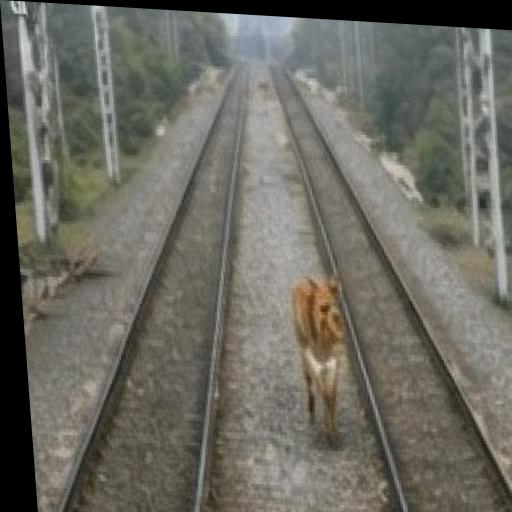fox: (283, 250, 512, 512), (276, 253, 382, 465)
